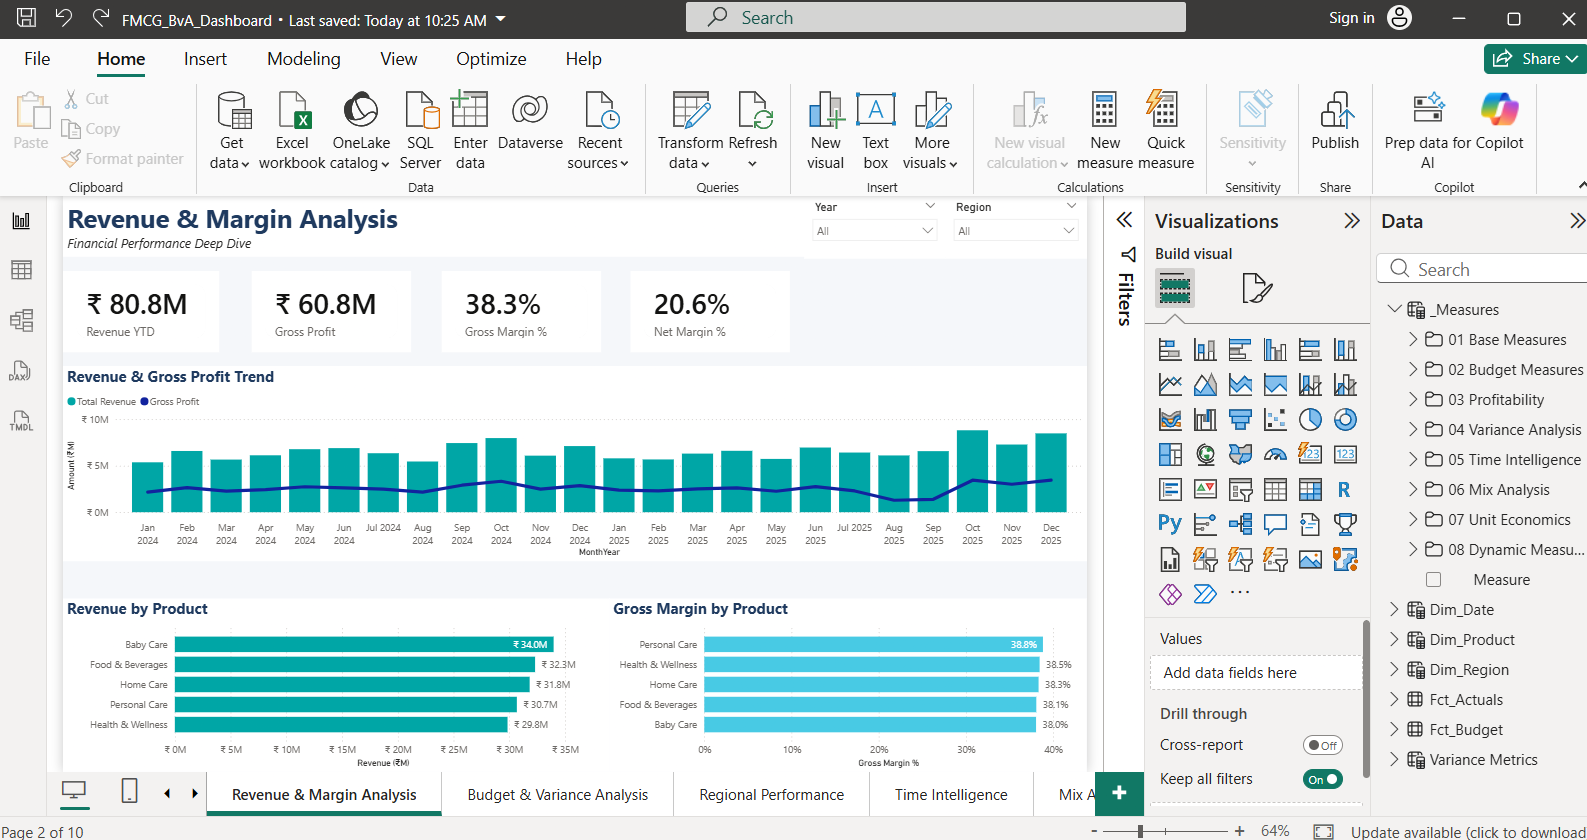

What the dashboard file says about the page in this screenshot:
{"tool":"powerbi","page":{"name":"Revenue & Margin Analysis","canvas":[1280,720],"ordinal":1},"visuals":[{"type":"textbox","box":[0,0,1279,76],"z":0},{"type":"slicer","fields":{"Values":["Dim_Region.Region"]},"box":[1103.1,0,176.6,78.1],"z":1000},{"type":"slicer","fields":{"Values":["Dim_Date.Year"]},"box":[926.6,0,176.6,78.1],"z":2000},{"type":"cardVisual","fields":{"Data":["_Measures.Revenue YTD"]},"box":[0,93.8,195.3,101.6],"z":3000},{"type":"cardVisual","fields":{"Data":["_Measures.Gross Profit"]},"box":[236.5,93.8,199,101.6],"z":4000},{"type":"cardVisual","fields":{"Data":["_Measures.Net Margin %"]},"box":[709.4,93.8,199,101.6],"z":5000},{"type":"cardVisual","fields":{"Data":["_Measures.Gross Margin %"]},"box":[472.9,93.8,199,101.6],"z":6000},{"type":"lineClusteredColumnComboChart","title":"Revenue & Gross Profit Trend","fields":{"Category":["Dim_Date.MonthYear"],"Y":["_Measures.Total Revenue"],"Y2":["_Measures.Gross Profit"]},"box":[0,212.5,1279.7,243.8],"z":7000},{"type":"clusteredBarChart","title":"Revenue by Product","fields":{"Category":["Dim_Product.Product"],"Y":["_Measures.Total Revenue"]},"box":[0,503.1,682.8,217],"z":8000},{"type":"clusteredBarChart","title":"Gross Margin by Product","fields":{"Category":["Dim_Product.Product"],"Y":["_Measures.Gross Margin %"]},"box":[683,503,597,217],"z":9000}]}

Visuals, with their boxes on the page's 1280x720 design canvas (x1, y1, x2, y2). These are canvas units, not pixel positions in the 1587x840 screenshot, which may show the page scaled, cropped or inside an application window:
textbox: Rect(0, 0, 1279, 76)
slicer - Dim_Region.Region: Rect(1103, 0, 1280, 78)
slicer - Dim_Date.Year: Rect(927, 0, 1103, 78)
cardVisual - _Measures.Revenue YTD: Rect(0, 94, 195, 195)
cardVisual - _Measures.Gross Profit: Rect(236, 94, 436, 195)
cardVisual - _Measures.Net Margin %: Rect(709, 94, 908, 195)
cardVisual - _Measures.Gross Margin %: Rect(473, 94, 672, 195)
"Revenue & Gross Profit Trend" lineClusteredColumnComboChart: Rect(0, 212, 1280, 456)
"Revenue by Product" clusteredBarChart: Rect(0, 503, 683, 720)
"Gross Margin by Product" clusteredBarChart: Rect(683, 503, 1280, 720)
